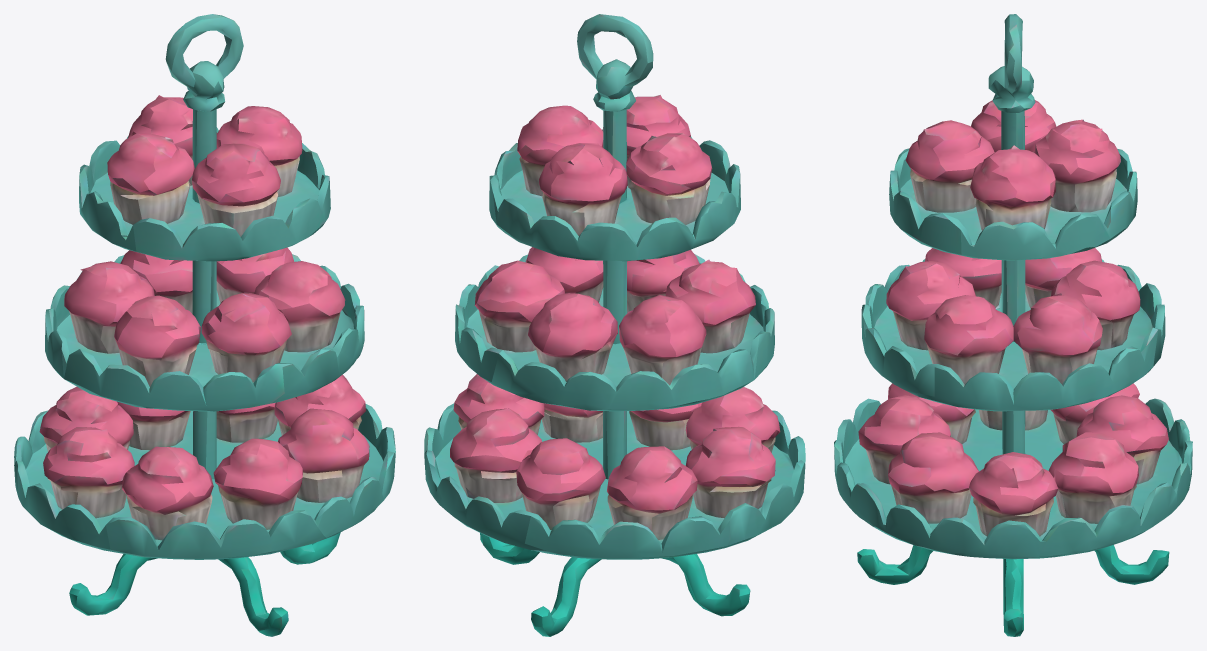
File: x-cakestand.glb
The picture shows the model from 3 angles, left to right: view 1: azimuth 30°, elevation 25°; view 2: azimuth 150°, elevation 25°; view 3: azimuth 270°, elevation 25°; orthographic projection.
Parts seen in each view (by area): view 1: geometry_0; view 2: geometry_0; view 3: geometry_0.
Part boxes in pixels (bbox=[...]): geometry_0: bbox=[14, 14, 395, 636]; geometry_0: bbox=[424, 14, 805, 636]; geometry_0: bbox=[834, 14, 1192, 636].
Bounding box in the file's own units: 0.2757 × 0.45 × 0.2593.
Materials: 1 (1 with a texture image).
